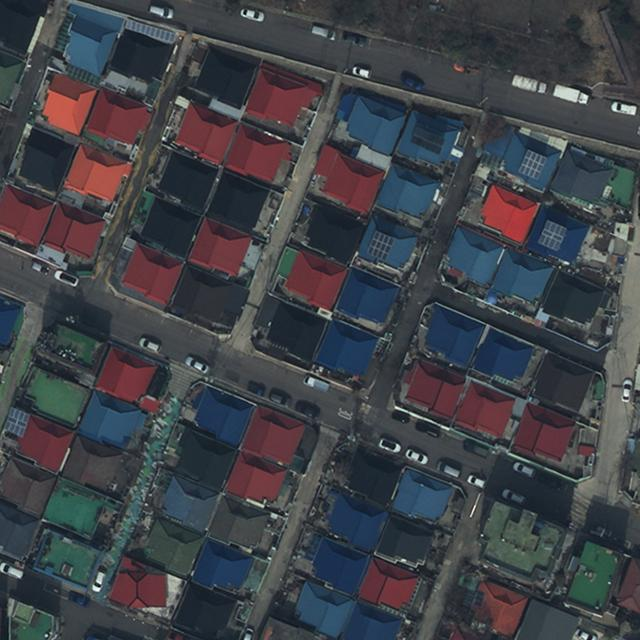solarpanel: (121, 19, 174, 44), (535, 218, 567, 252), (408, 126, 445, 154), (516, 148, 548, 180), (364, 230, 394, 260), (2, 406, 30, 437)
